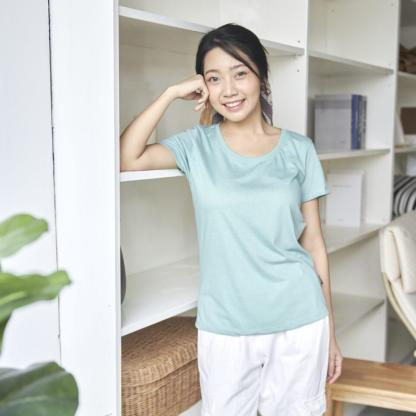dress: (156, 124, 348, 338)
jean: (118, 26, 341, 416)
